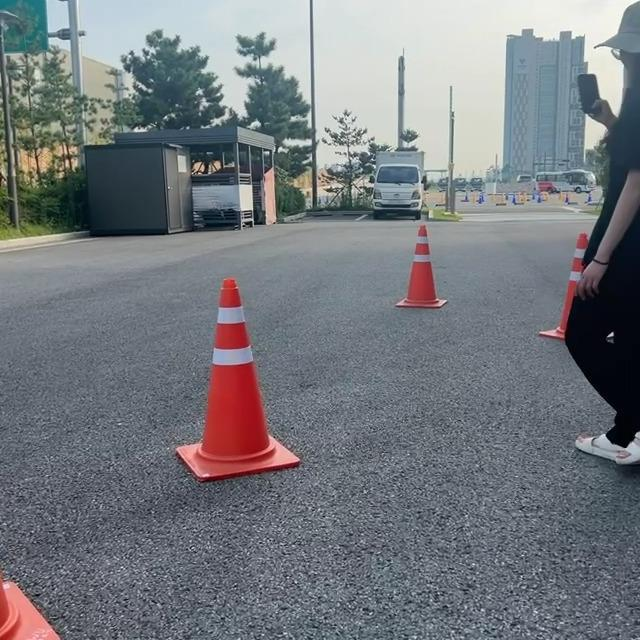fallen_object: (165, 225, 289, 504), (527, 206, 613, 376), (385, 187, 472, 331), (0, 541, 72, 640)
